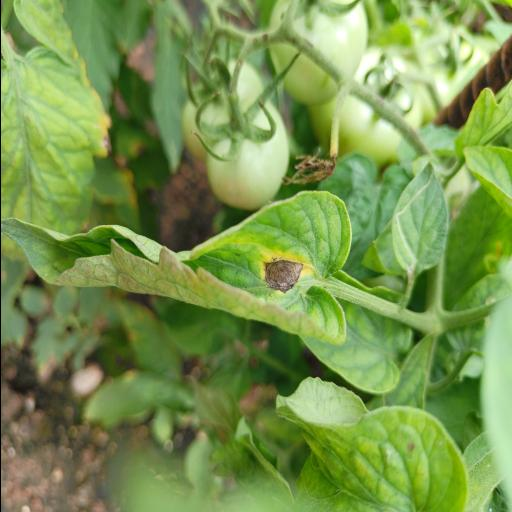Early Blight: (0, 192, 350, 350)
